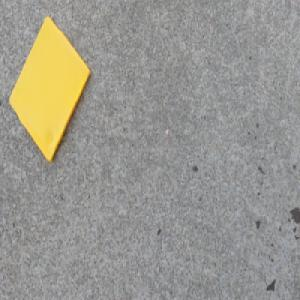PlasticPart: (7, 13, 92, 164)
